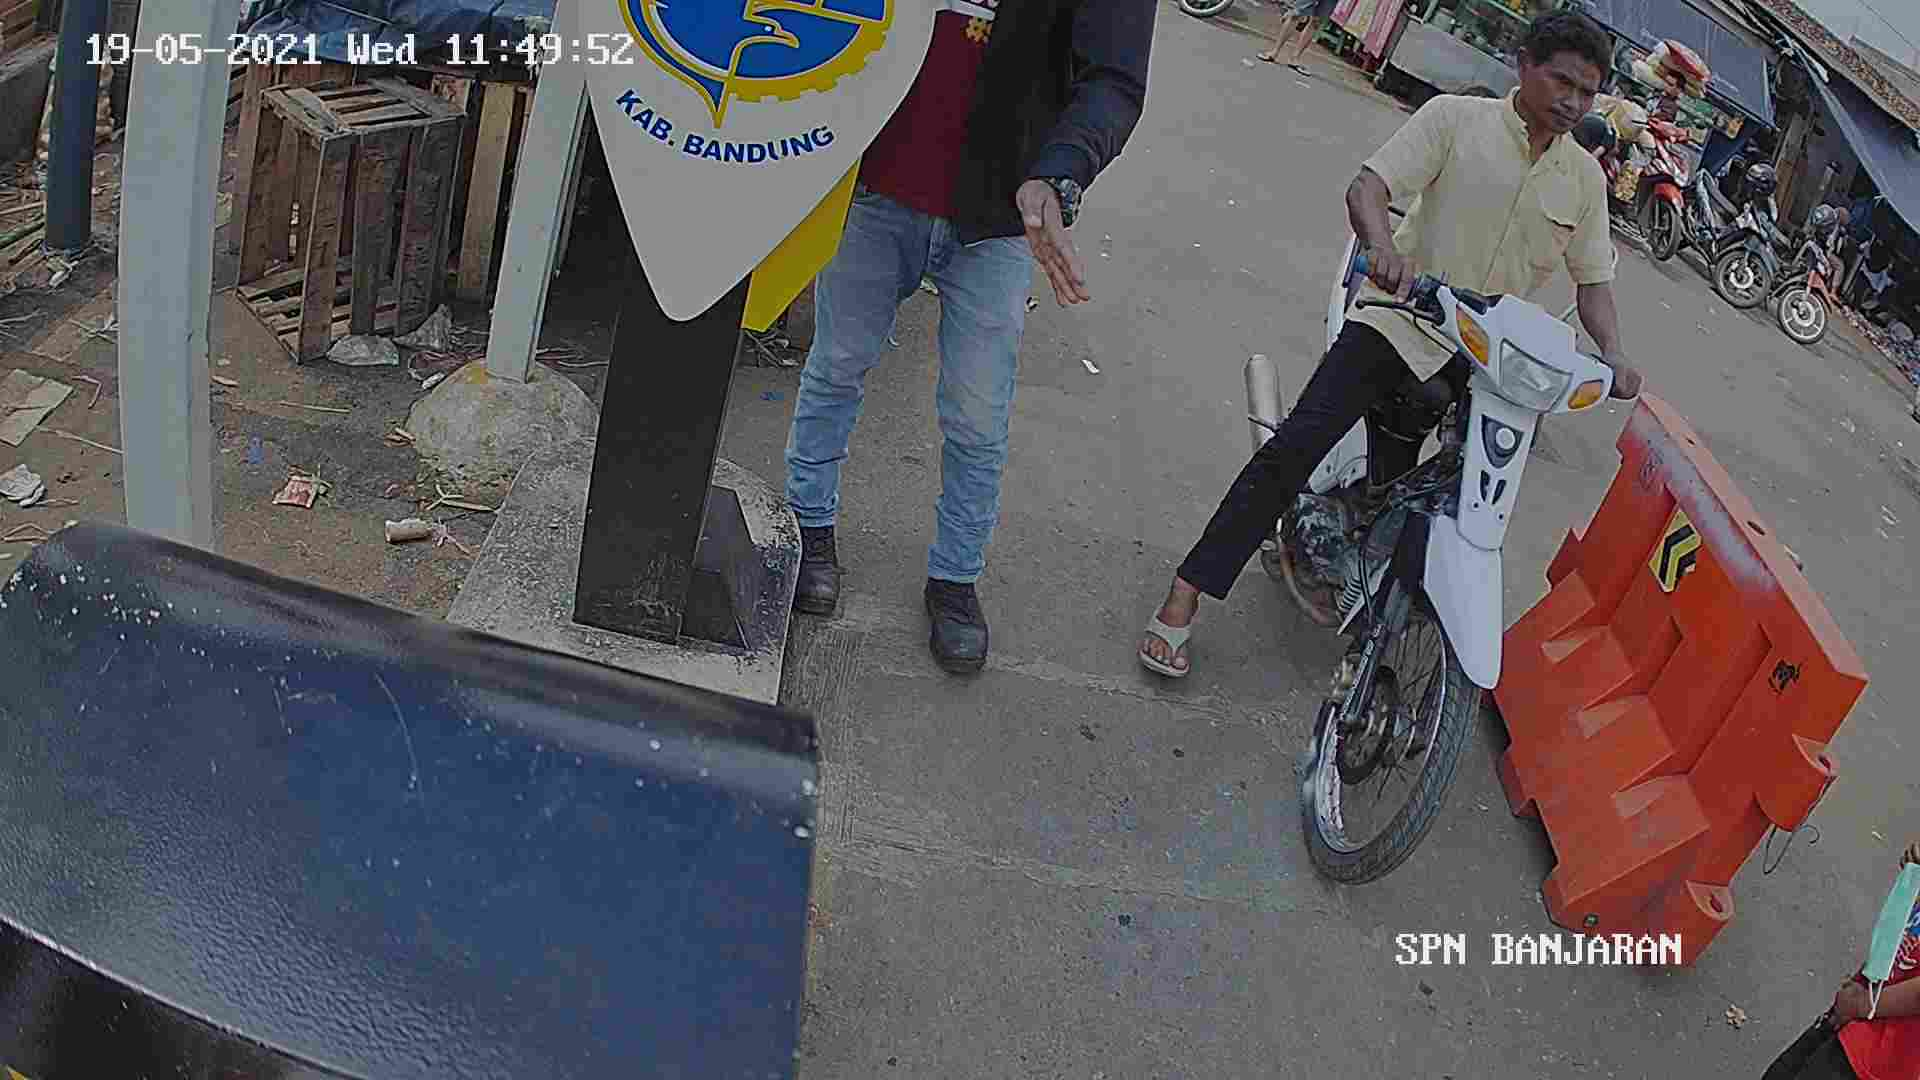motor: (1280, 237, 1600, 903)
